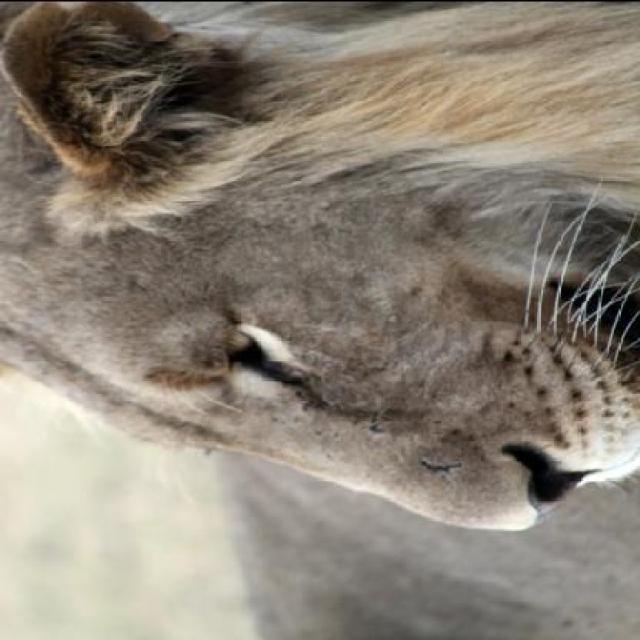Lion: (9, 3, 638, 560)
